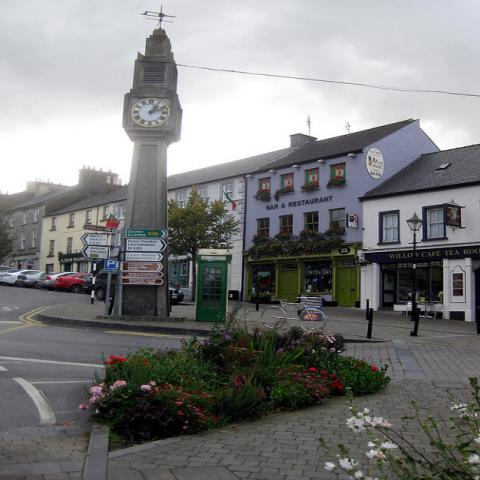car: (55, 272, 93, 294), (0, 269, 41, 288), (39, 272, 79, 291), (95, 268, 118, 300), (24, 270, 60, 288), (168, 279, 184, 305), (18, 272, 38, 289), (83, 278, 92, 294), (0, 266, 22, 272)
